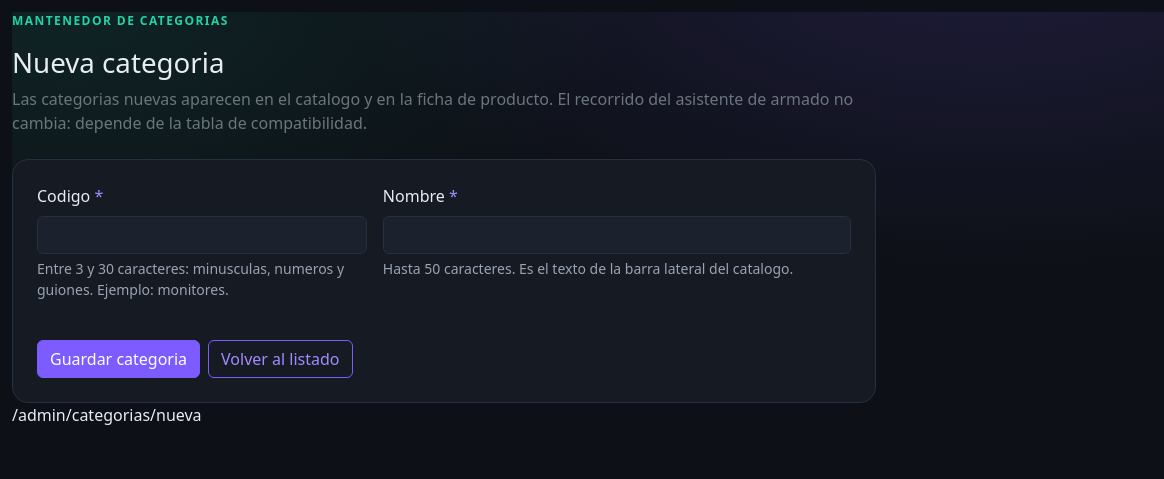
Scenario: admin / FormularioCategoria › crear › el codigo debe tener entre 3 y 30 caracteres (RF-25 CA2)
Type "ab" into the field labelled "Codigo *" at [202, 235], box [37,216,367,254]
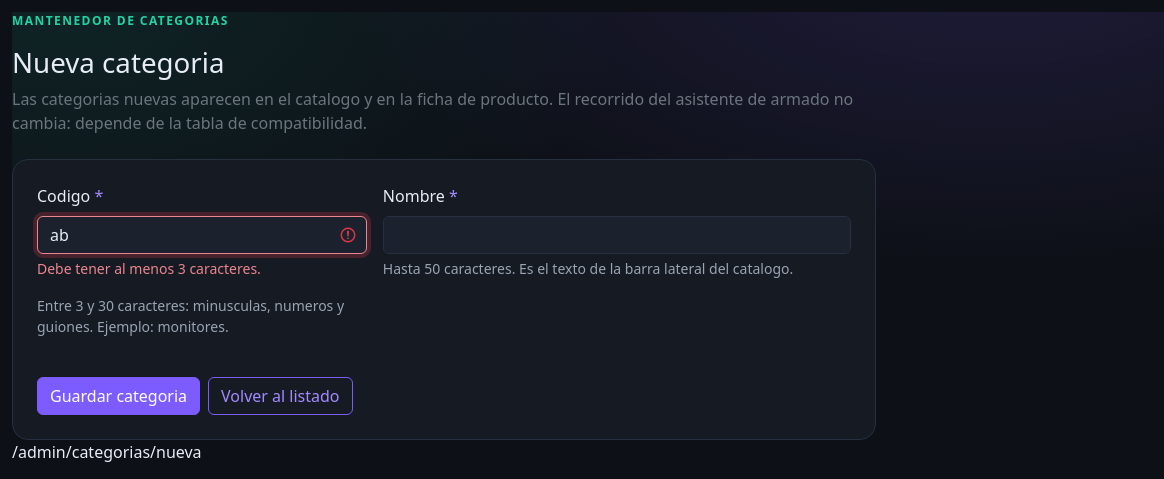
Expected: the text "Debe tener al menos 3 caracteres." is shown, [37,259,261,278]
